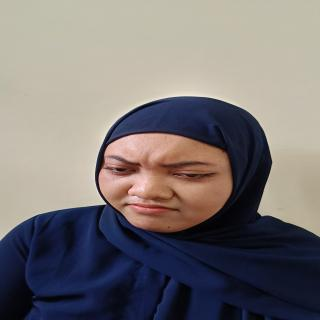Marah: (97, 133, 239, 237)
